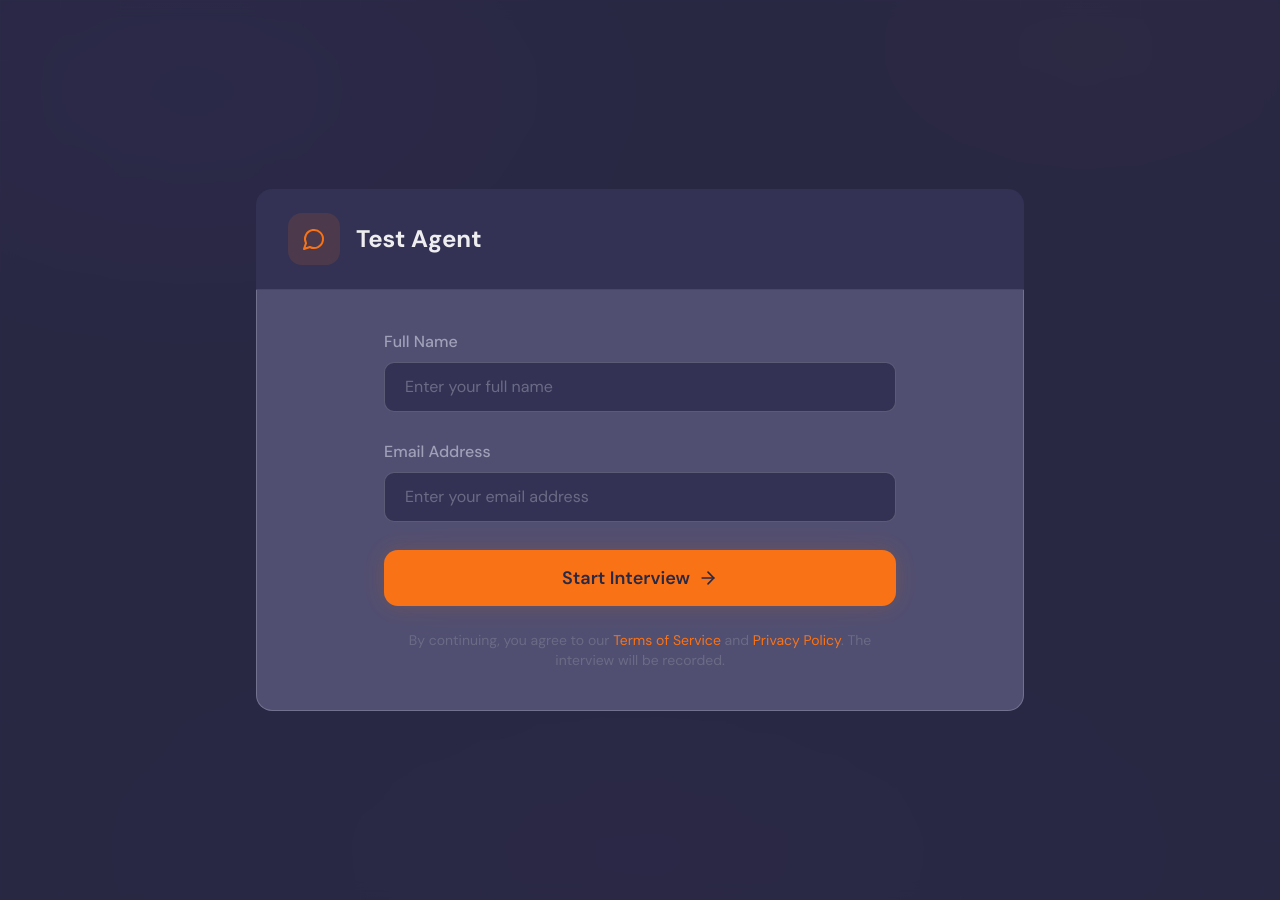
JoinModal › shows error message on API failure
The width and height of the screenshot is (1280, 900).
Type "test@example.com" into the field with placeholder "Enter your email address" at [640, 497], box [384,472,896,522]
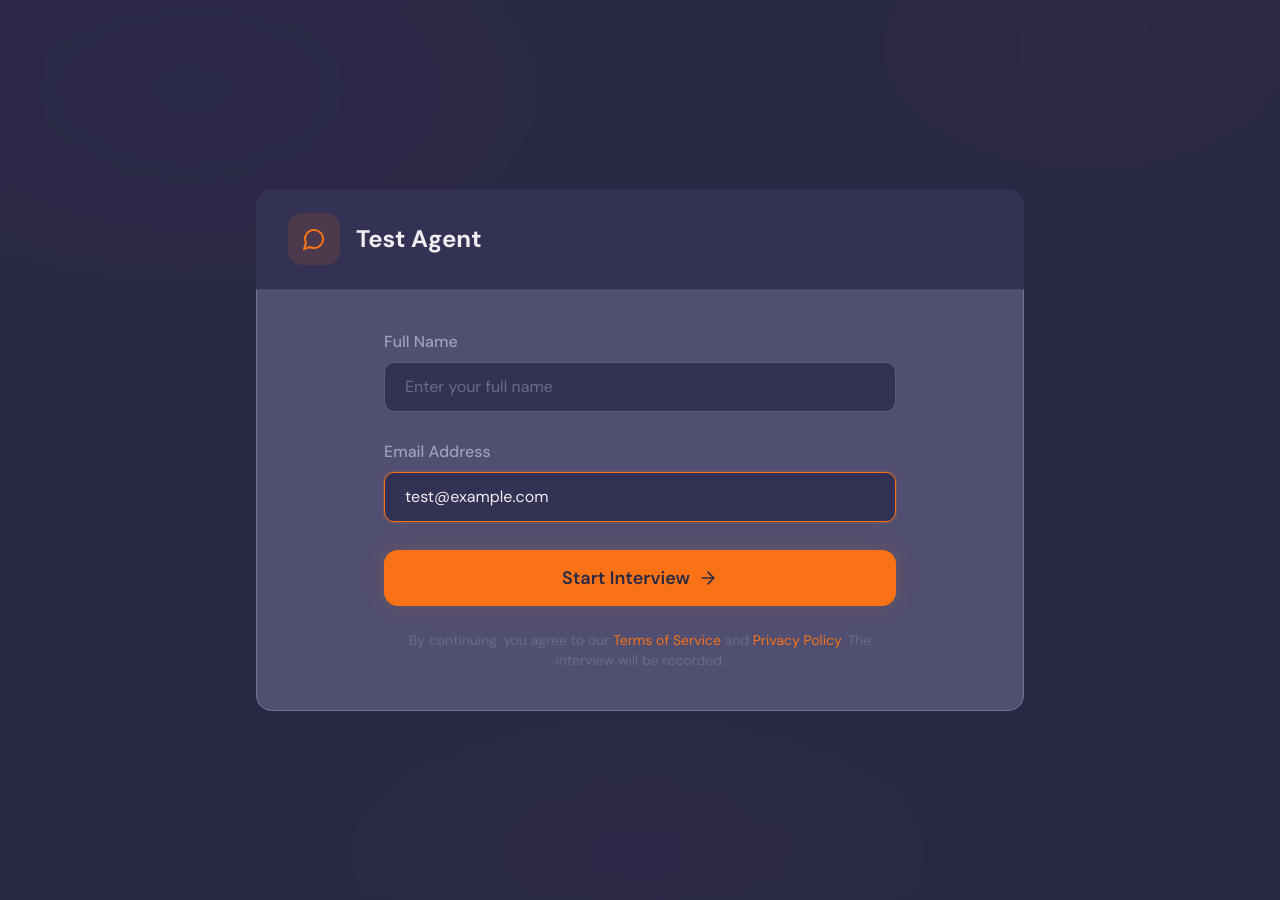
Click the button "Start Interview" at [640, 578], box [384,550,896,606]
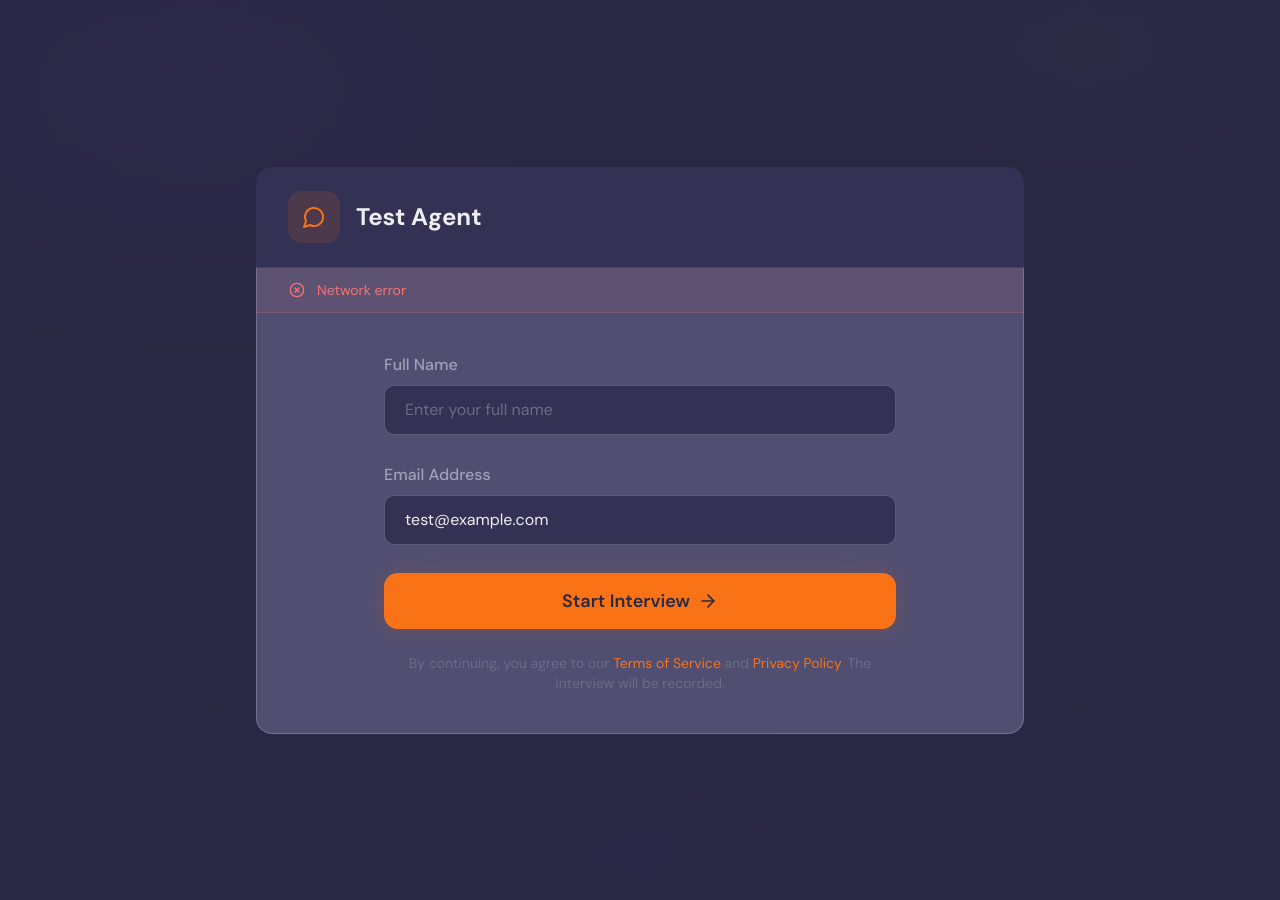
Expected: the text "Network error" is shown, [317,280,406,300]
